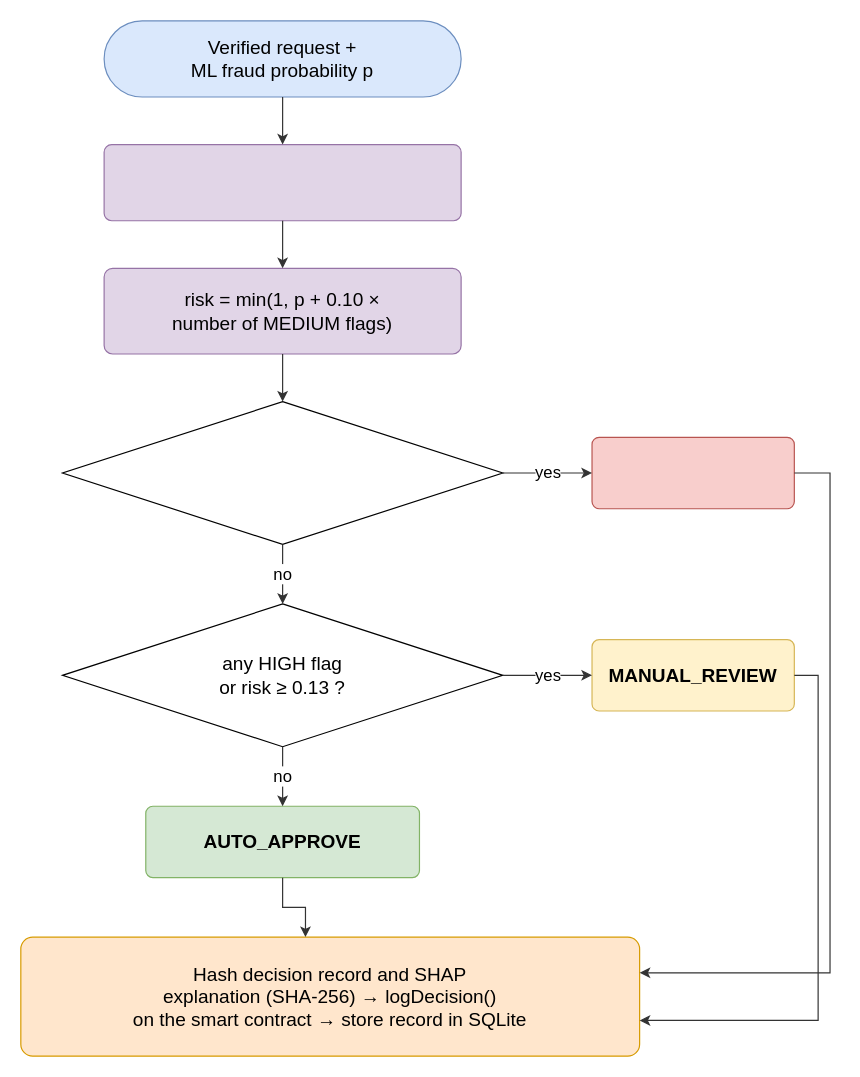
Image size: 860x1077. Some labels were removed from this diagram. Each missing label, with the centre of its shape:
any CRITICAL flag or risk ≥ 0.90 ?: point 282,472
AUTO_BLOCK: point 692,472
Evaluate rules: flags (CRITICAL / HIGH / MEDIUM): point 282,182
